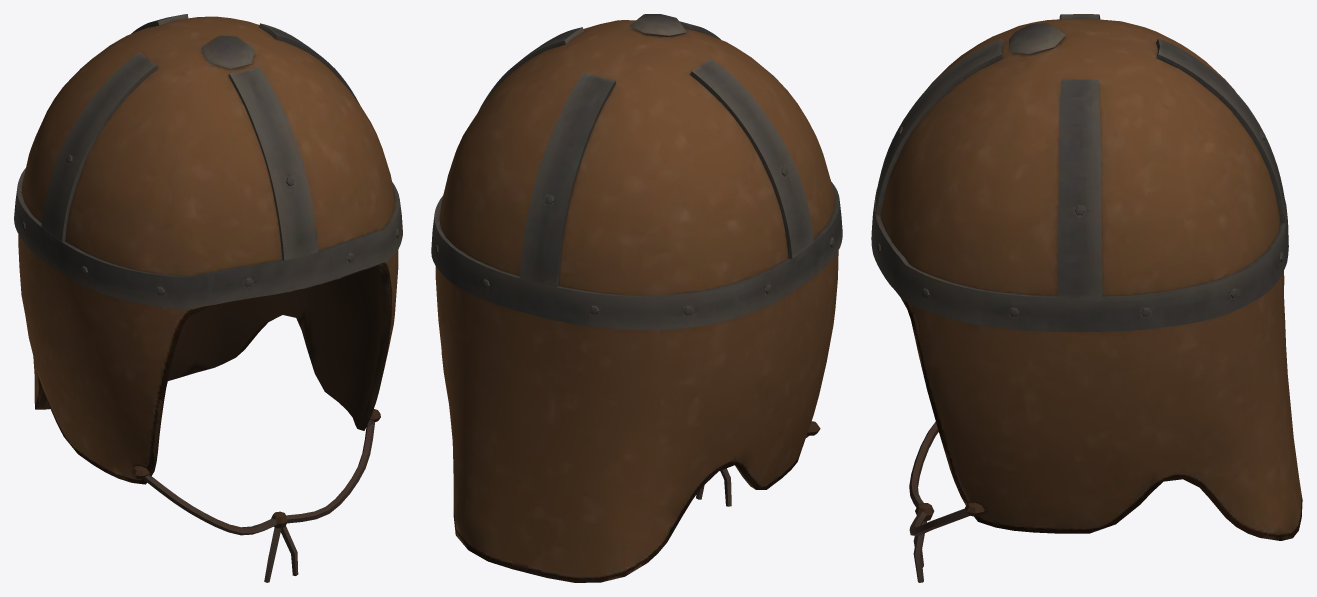
The model's file is apprentice.glb.
3 renders of one model, left to right at view 1: azimuth 30°, elevation 25°; view 2: azimuth 150°, elevation 25°; view 3: azimuth 270°, elevation 25°, orthographic. The views are drawn at different scales.
Visible parts, largest first — view 1: helm; view 2: helm; view 3: helm.
Part boxes in pixels (x1,y1,x2,y2): helm: (14, 14, 402, 582); helm: (431, 14, 842, 582); helm: (871, 14, 1302, 582).
Size of the model in its own units: 0.2233 by 0.3335 by 0.2386.
1 material, 1 textured.
